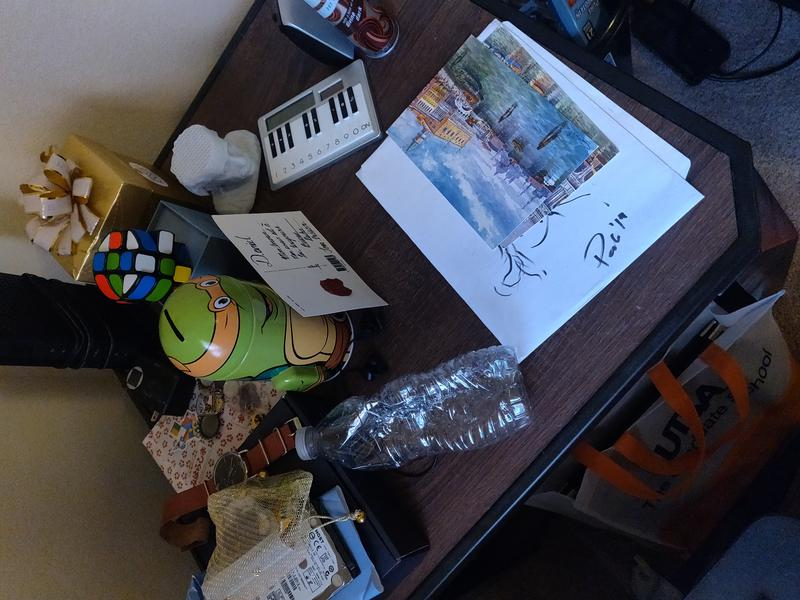bottle: (293, 345, 533, 473)
